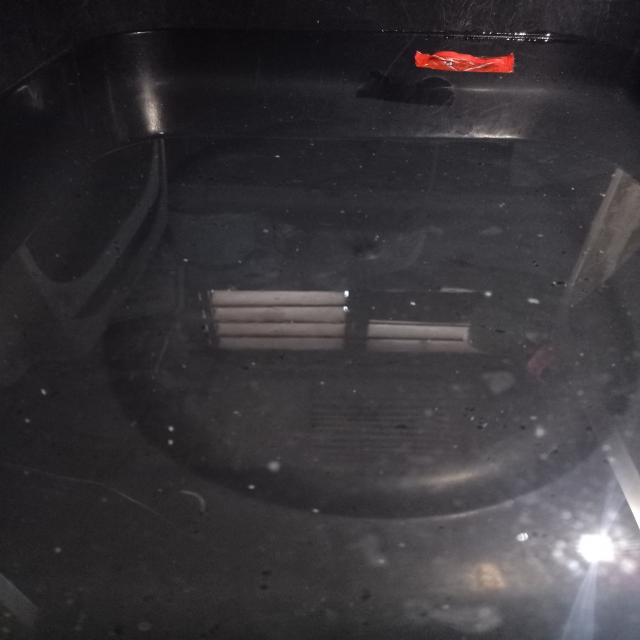Plastic Wrapper: (415, 51, 514, 73)
